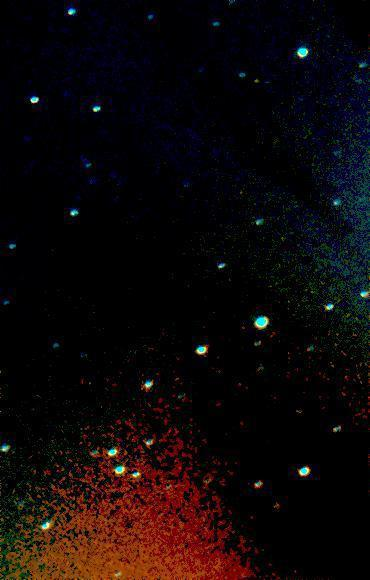star: (243, 66, 273, 96)
